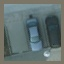car: (28, 18, 41, 52), (47, 14, 60, 48)
